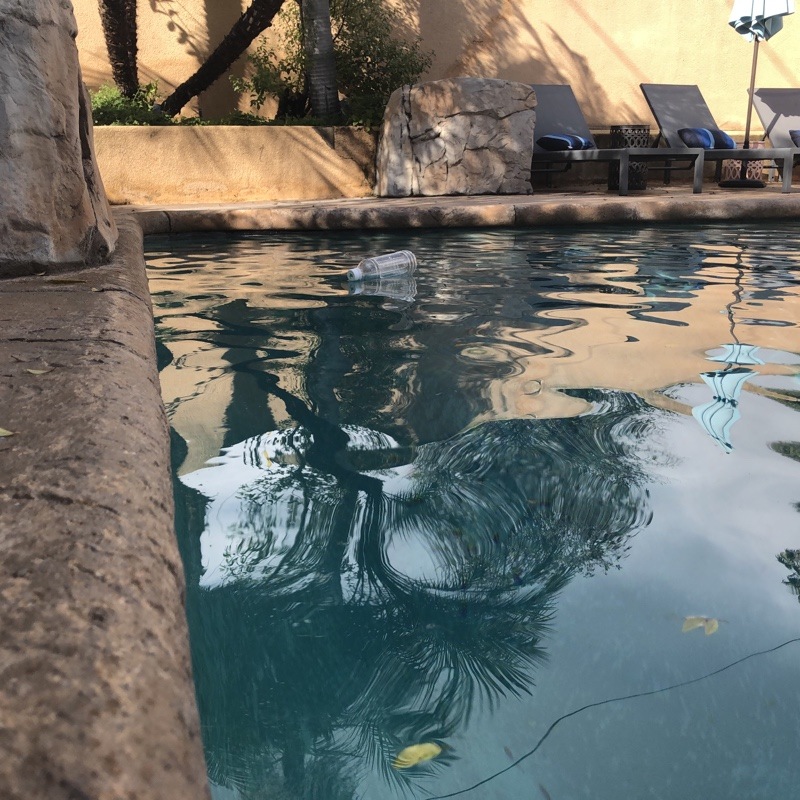Plastic Bottle: (344, 247, 420, 286)
